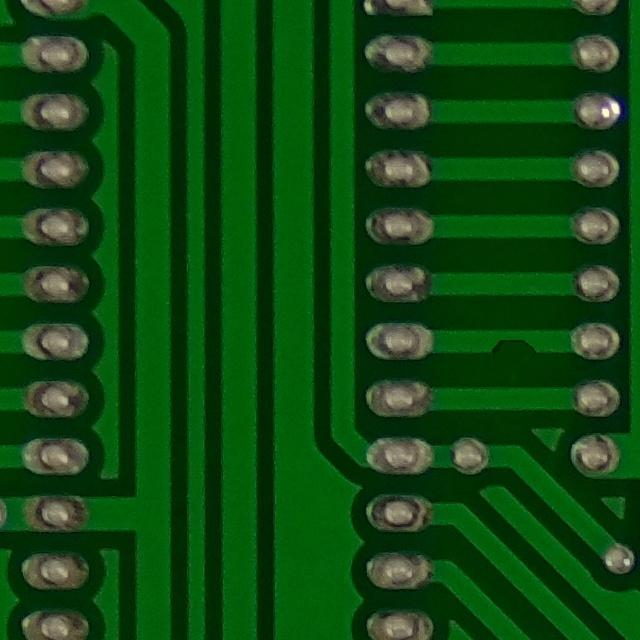mouse_bite: (483, 319, 544, 378)
